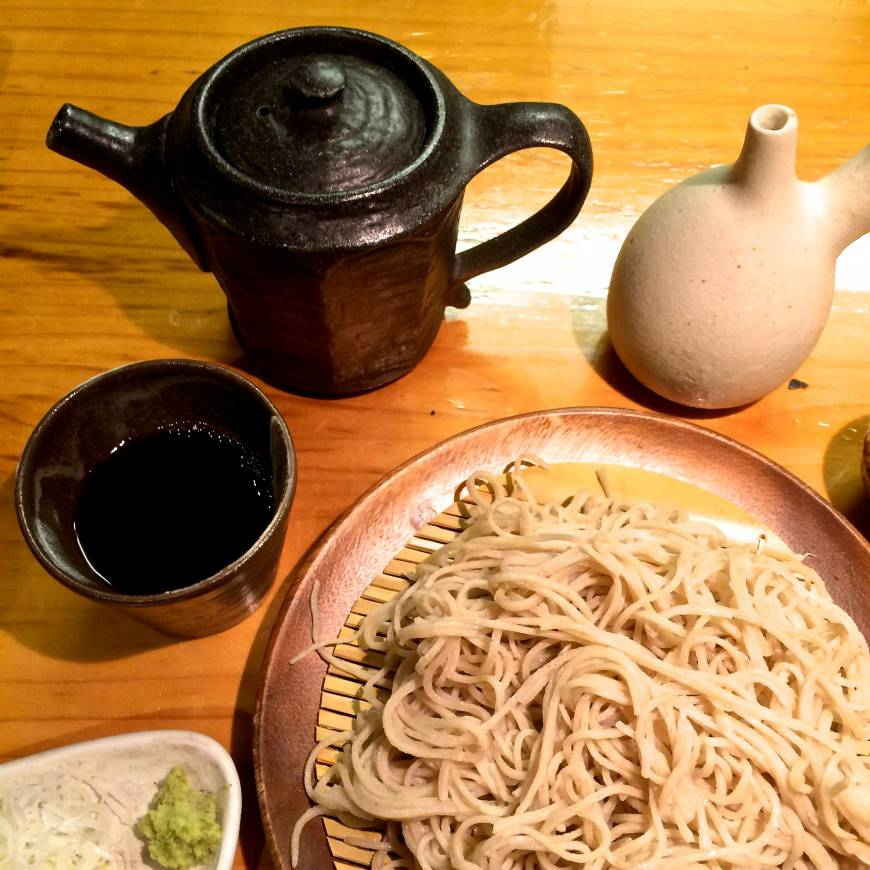Soba: (381, 491, 870, 864)
